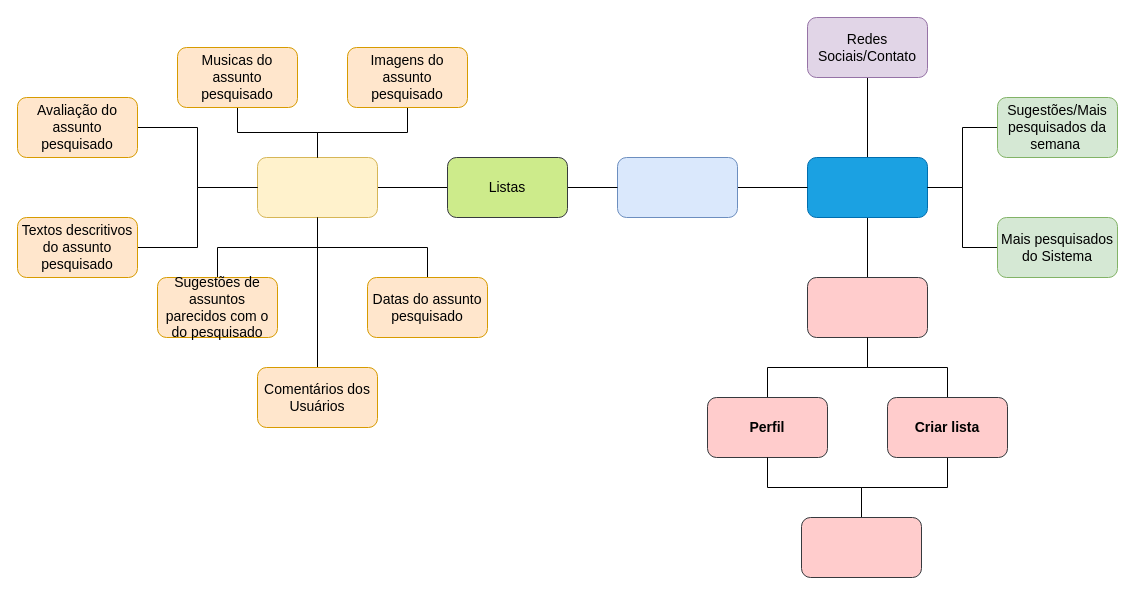
This 1135x595 diagram has some shape labels left out. The shapes that lost their labels are listed below. From the top down, each one's centre as x and y in pixels, then its label:
(x=317, y=187): Lista Pesquisada
(x=677, y=187): Barra de Pesquisa
(x=867, y=187): Página Principal
(x=867, y=307): Login/Cadastro
(x=861, y=547): Listas do Usuário
